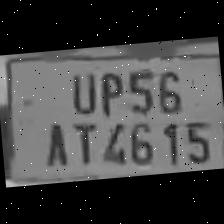1: (154, 114, 184, 168)
4: (96, 116, 129, 166)
5: (119, 62, 157, 114), (178, 113, 215, 166)
6: (151, 65, 186, 117), (124, 114, 157, 167)
A: (36, 116, 71, 170)
P: (94, 65, 126, 115)
T: (66, 116, 101, 167)
U: (63, 66, 99, 117)
